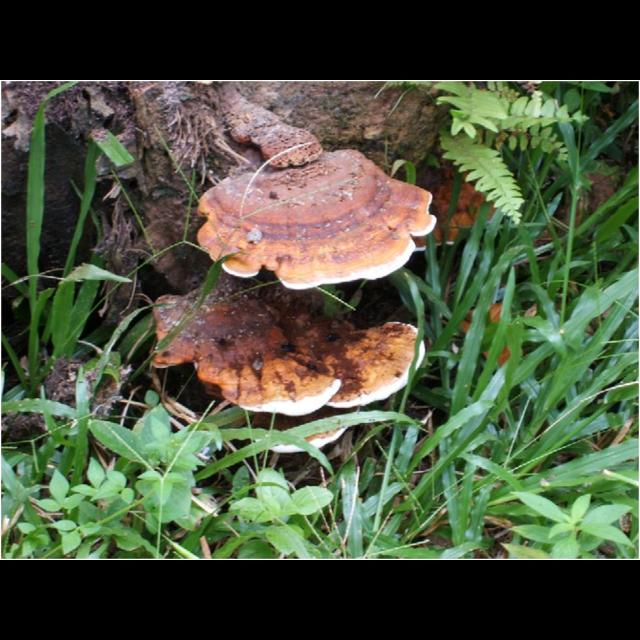ganoderma: (150, 285, 428, 421), (200, 139, 439, 291)
